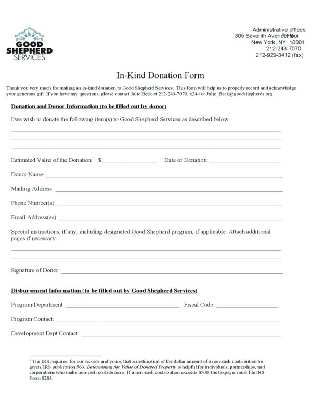textline: (9, 240, 283, 253), (8, 122, 284, 134), (60, 262, 284, 276), (44, 167, 284, 180), (54, 181, 284, 194), (56, 210, 284, 223), (56, 197, 287, 209), (10, 252, 283, 262), (7, 143, 284, 152), (9, 134, 284, 142), (56, 315, 280, 324), (81, 328, 282, 338), (64, 298, 181, 310), (207, 153, 284, 165), (215, 298, 279, 311), (100, 155, 160, 166)
